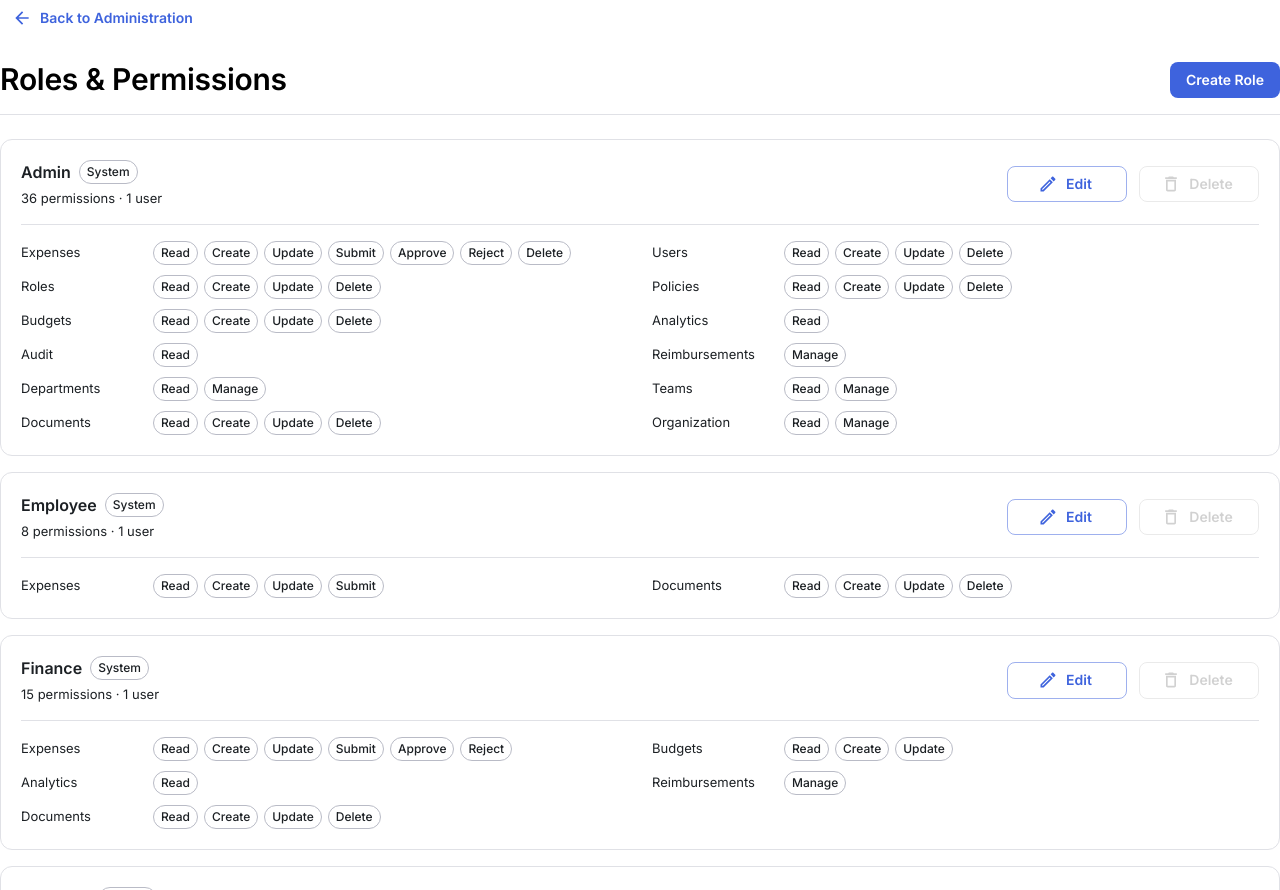
Test: RolesPage create role › says that a custom role sees its holders' own expenses only
Click the button "Create Role". click: x=1225, y=80
box: [1170,62,1279,98]
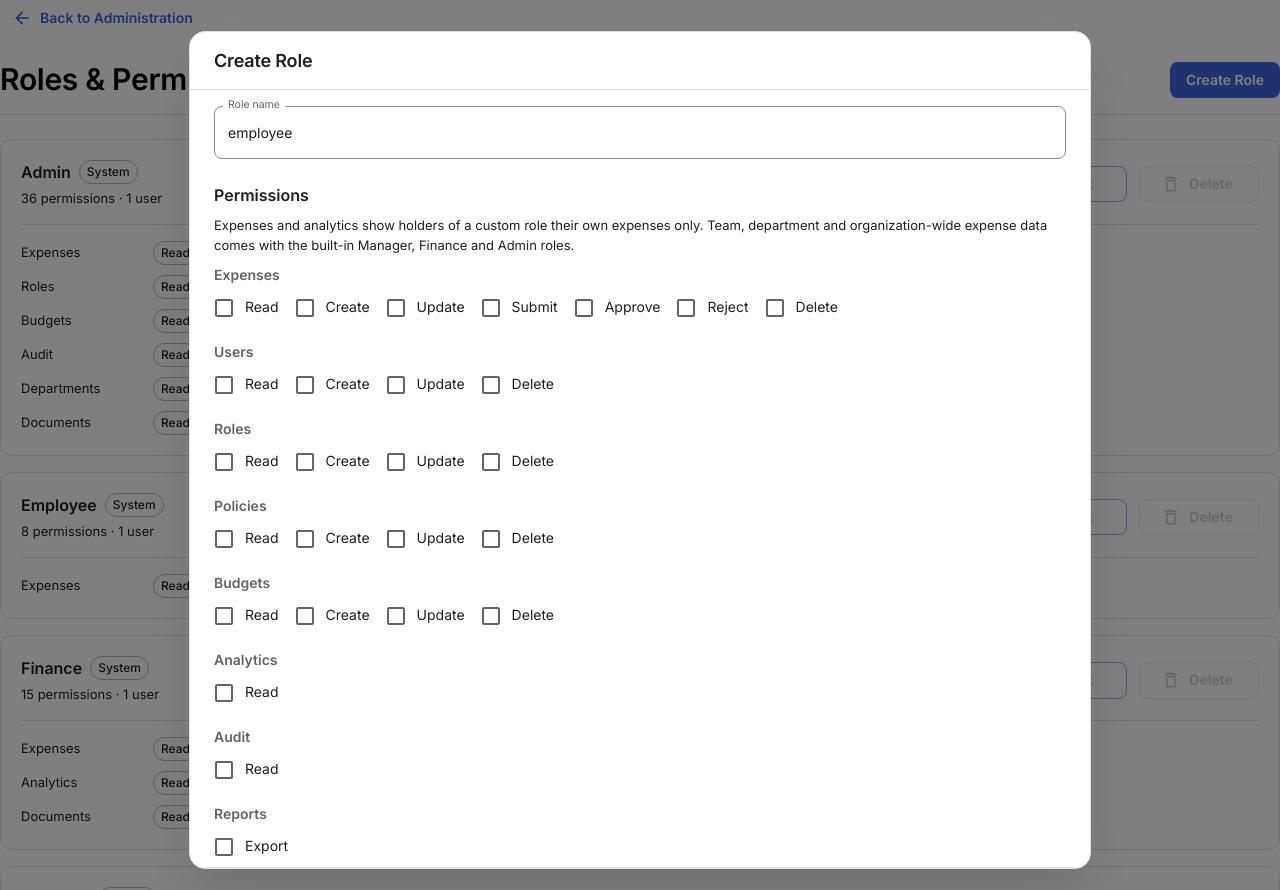
Expected: the text "Expenses and analytics show holders of a custom role their own expenses only. Team, department and organization-wide exp" is shown, [214,217,1047,253]
